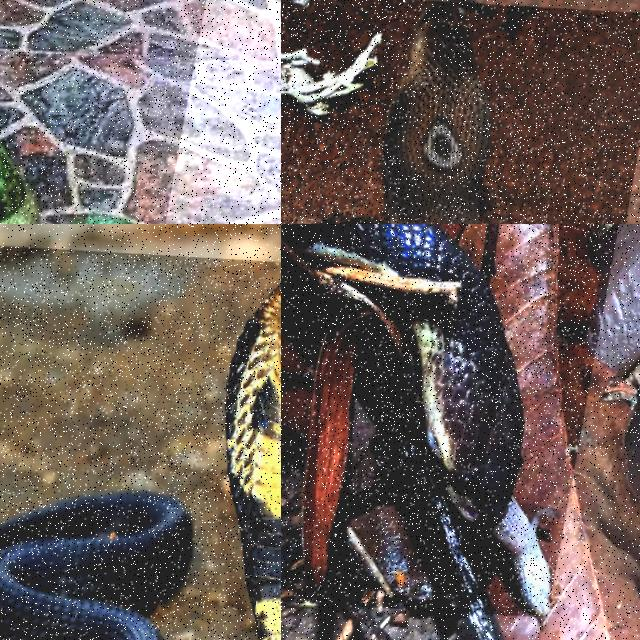Bungarus candidus: (281, 224, 550, 617)
Naja kaouthia: (384, 2, 489, 223), (0, 142, 40, 223)
Ophiophagus hannah: (225, 283, 280, 639)
snake: (281, 224, 550, 617), (384, 2, 489, 223), (225, 283, 280, 639), (0, 142, 40, 223)
